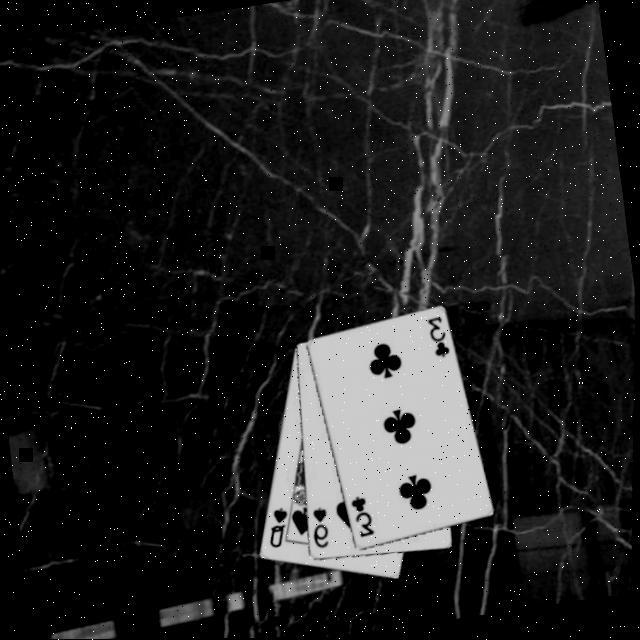3C: (346, 494, 378, 544), (422, 315, 453, 365)
6S: (306, 505, 334, 554)
QS: (260, 506, 294, 554)
